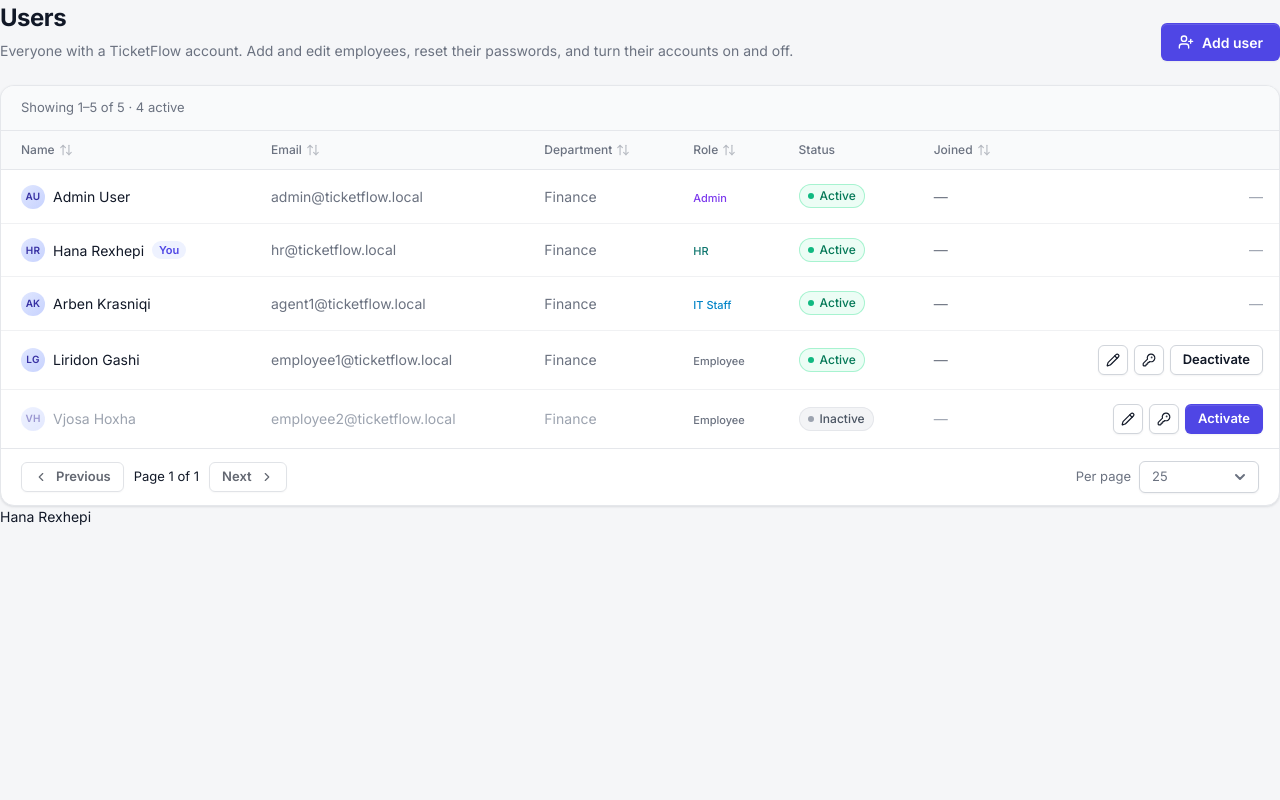
Test: Reset password › confirming shows "New password for <name>" with the email, password and Copy; Done clears it
The width and height of the screenshot is (1280, 800).
Expected: the table is shown, [1, 131, 1279, 448]
Click the button named "Reset password for Liridon Gashi" at (1149,360), box [1134, 344, 1164, 374]
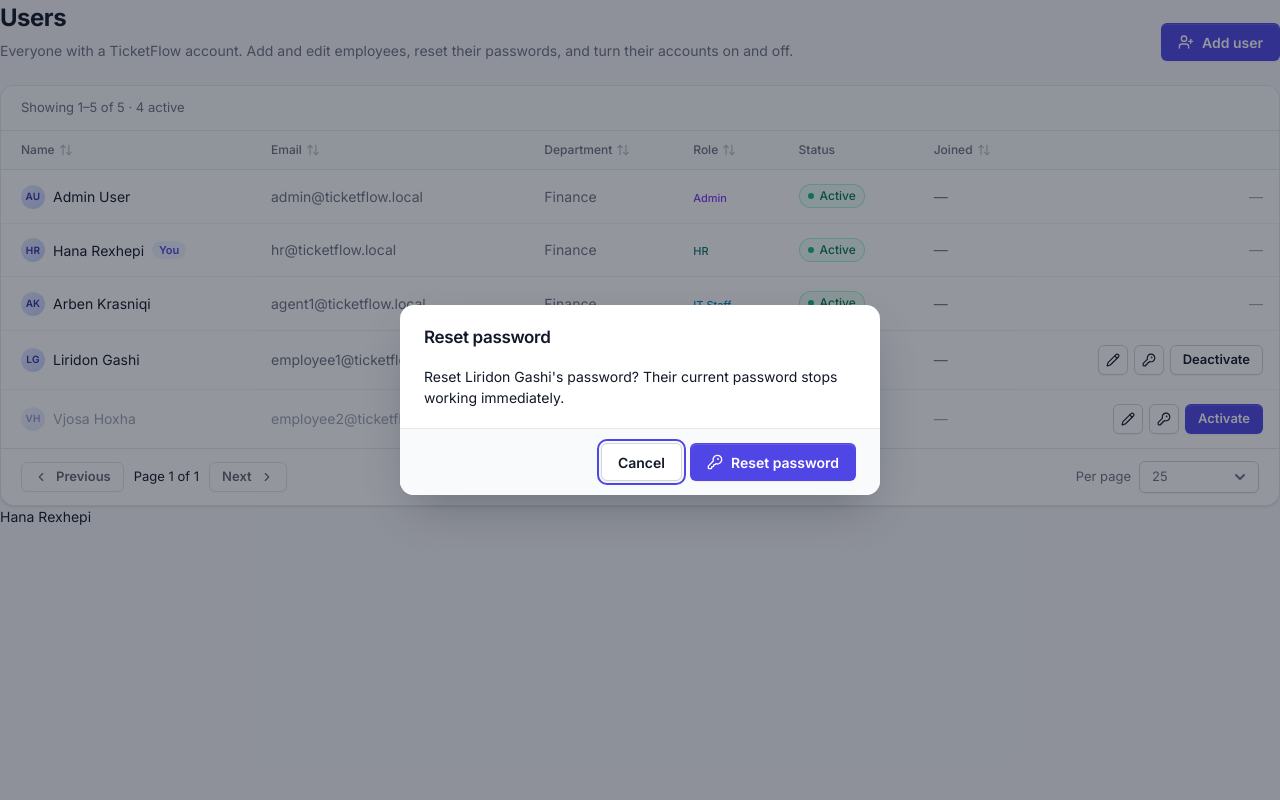
Click the button "Reset password" at (773,462), box [690, 443, 856, 481]
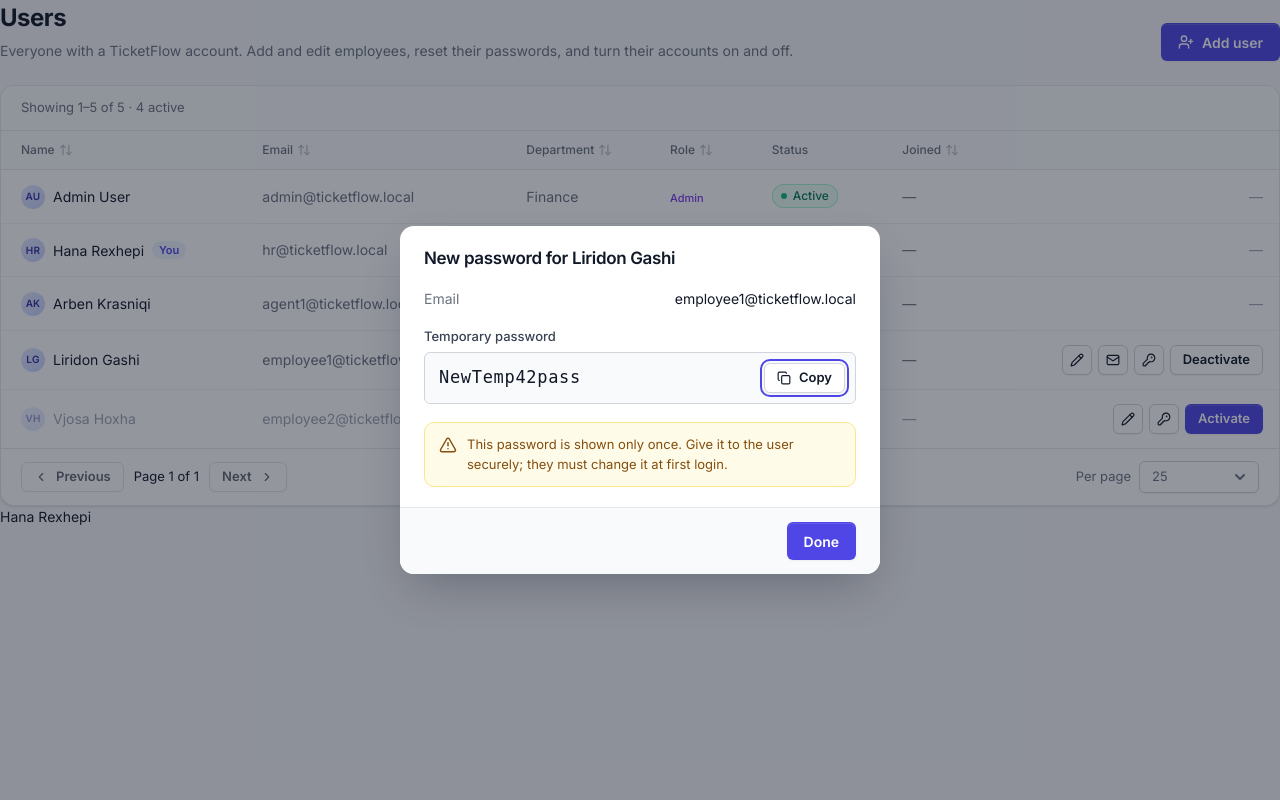
Click the button "Copy" at (804,378), box [764, 363, 845, 393]
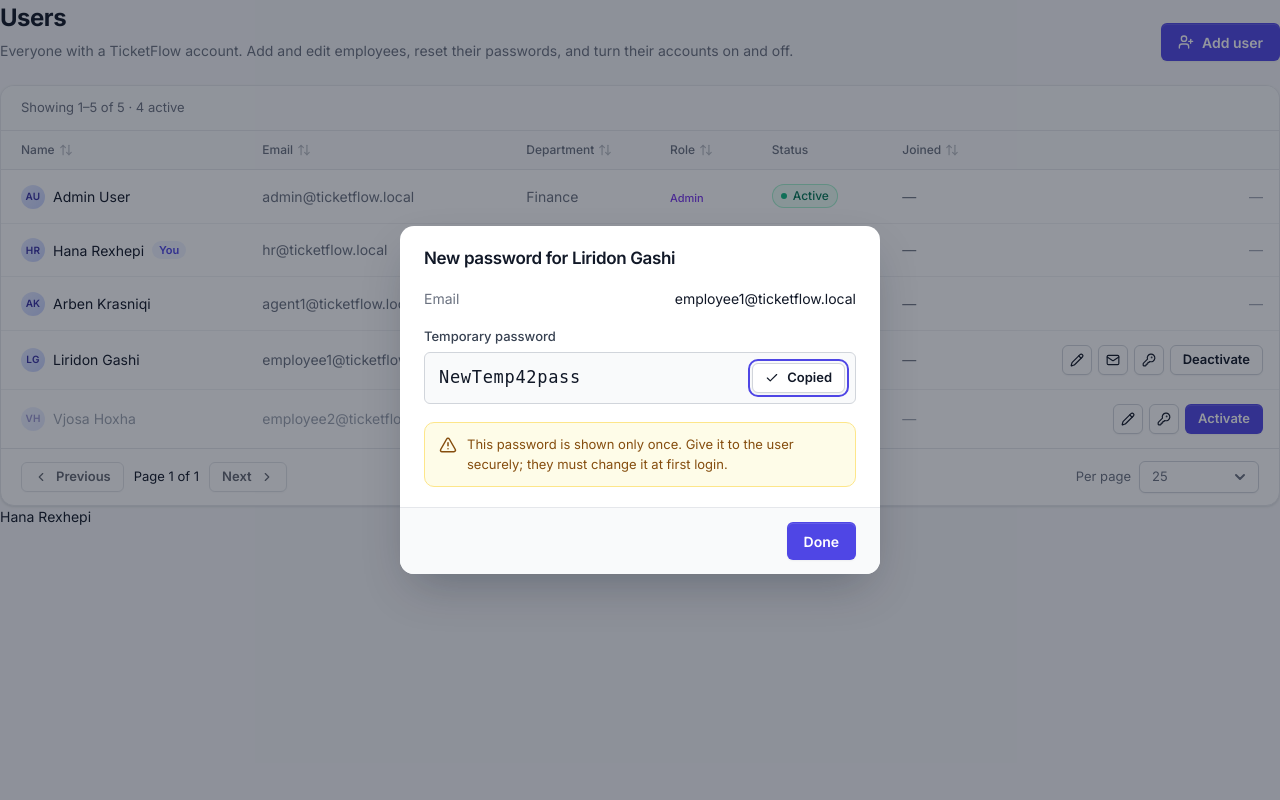
Click the button "Done" at (821,541), box [786, 522, 856, 560]
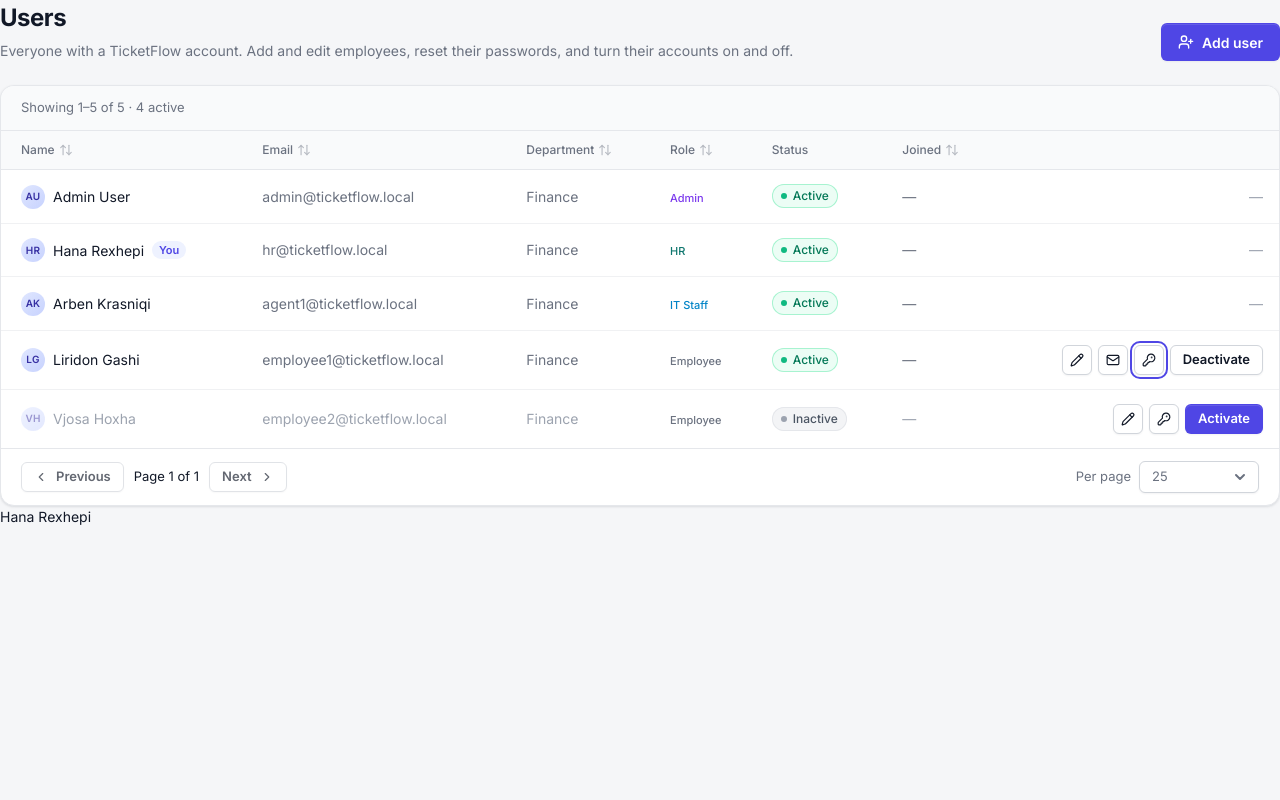
Now the dialog is gone
Now the text "NewTemp42pass" is gone
